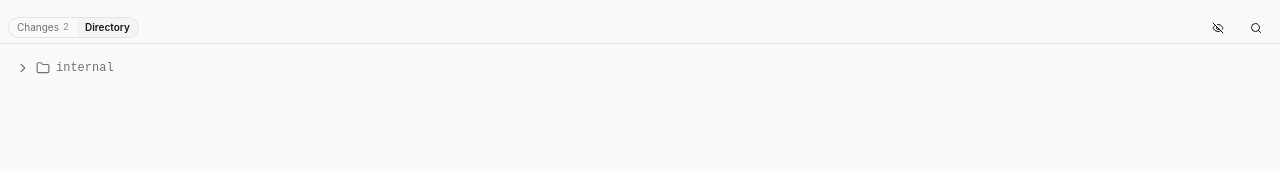
FilesPanel directory mode 链压缩 › folds only what is already loaded, requests no unopened level up front, and cascades a single expand through every level as they arrive
The width and height of the screenshot is (1280, 172).
Click the button with aria-label "Expand internal". click: {"x": 85, "y": 68}
box: x1=16 y1=54 x2=1238 y2=82
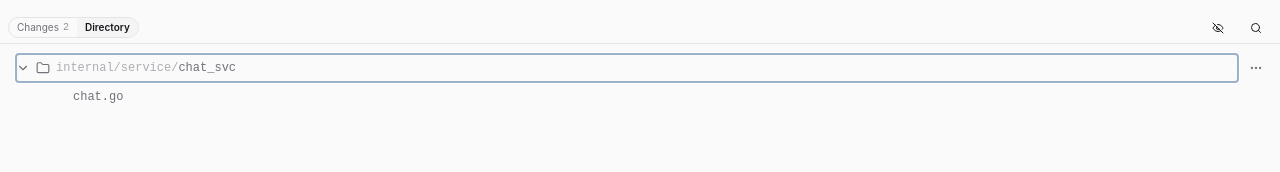
Check: the text "chat.go" is shown, box x1=73 y1=88 x2=123 y2=104
Check: the text with test id "chain-prefix" reads "internal/service/", box x1=56 y1=61 x2=178 y2=75
